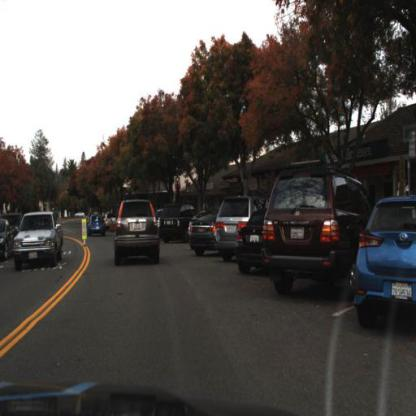car: (262, 155, 359, 306), (355, 194, 416, 335), (110, 197, 164, 268), (12, 209, 67, 276), (14, 210, 63, 267), (214, 189, 253, 260), (233, 201, 267, 276), (159, 199, 194, 248), (185, 207, 218, 258), (160, 203, 192, 241), (87, 212, 110, 240)
